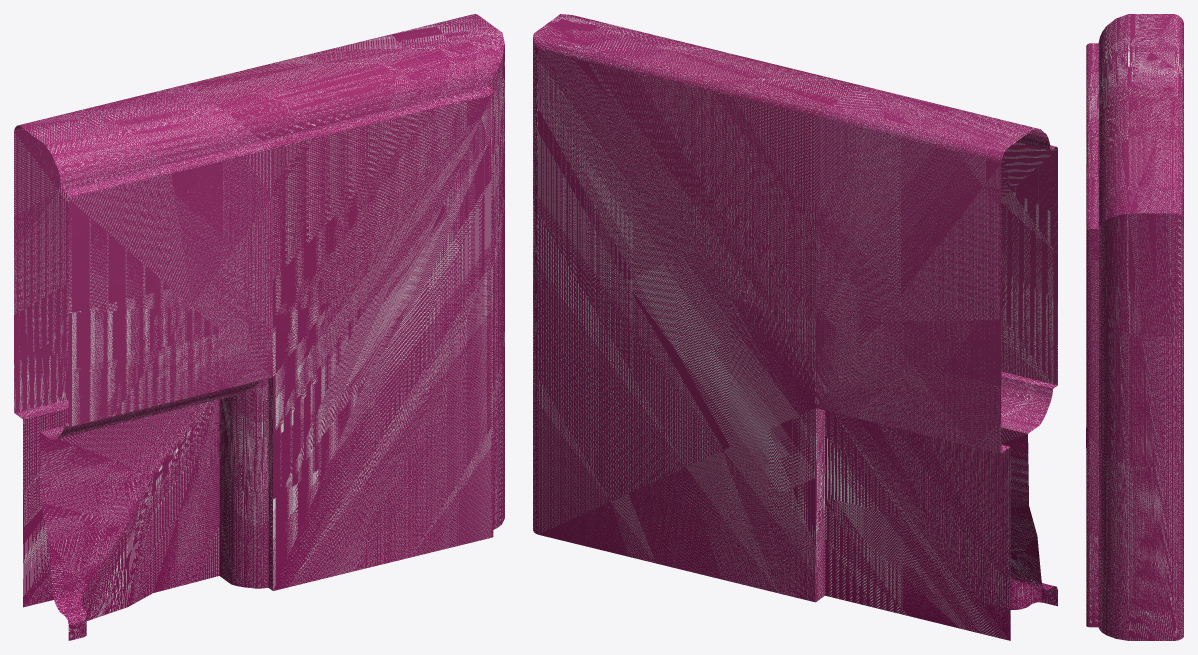
File: original-41.obj
3 views of the same model, side by side, from view 1: azimuth 30°, elevation 25°; view 2: azimuth 150°, elevation 25°; view 3: azimuth 270°, elevation 25° (orthographic). The views are drawn at different scales.
Visible parts, largest first — view 1: RB_11_TR1/RB_11_TR/mesh28/mesh28-geometry#mesh28-geometry; view 2: RB_11_TR1/RB_11_TR/mesh28/mesh28-geometry#mesh28-geometry; view 3: RB_11_TR1/RB_11_TR/mesh28/mesh28-geometry#mesh28-geometry.
Part boxes in pixels (box(x1,y1,x2,y2)): RB_11_TR1/RB_11_TR/mesh28/mesh28-geometry#mesh28-geometry: box(14, 14, 504, 640); RB_11_TR1/RB_11_TR/mesh28/mesh28-geometry#mesh28-geometry: box(533, 14, 1057, 640); RB_11_TR1/RB_11_TR/mesh28/mesh28-geometry#mesh28-geometry: box(1086, 14, 1183, 640).
Size of the model in its own units: 0.1899 by 0.1899 by 0.0393.
